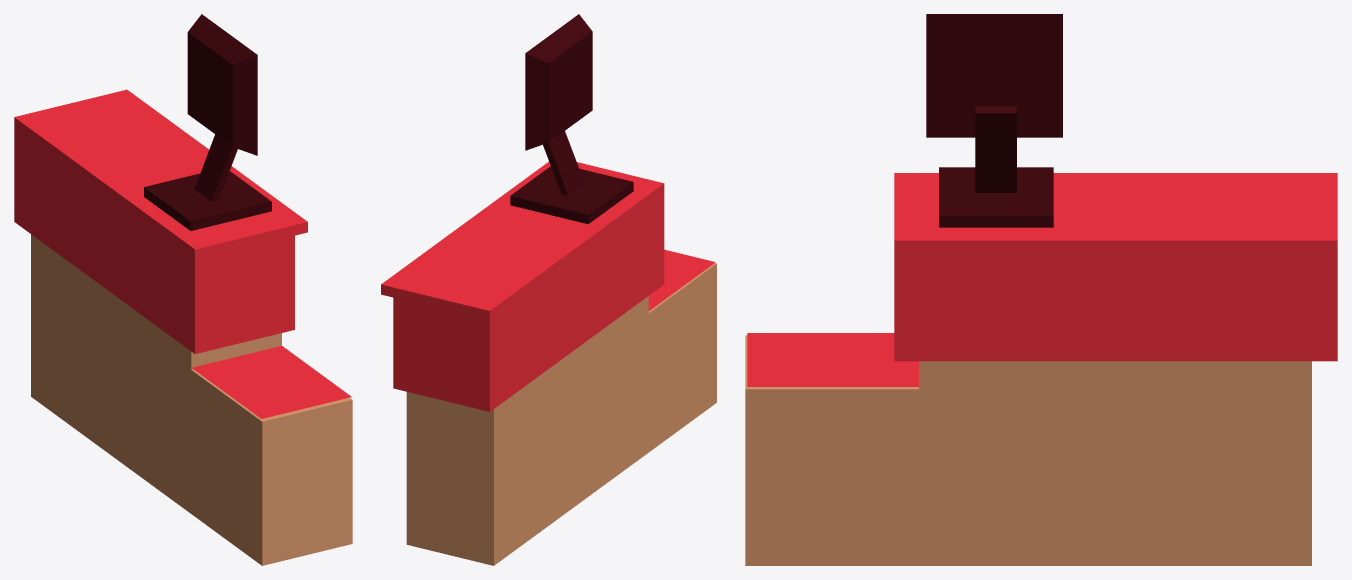
File: bar1.fbx
3 views of the same model, side by side, from view 1: azimuth 30°, elevation 25°; view 2: azimuth 150°, elevation 25°; view 3: azimuth 270°, elevation 25° (orthographic). The views are drawn at different scales.
Parts seen in each view (by area): view 1: bar, bar.002, bar.005, bar.001, bar.003, bar.004; view 2: bar, bar.002, bar.005, bar.003, bar.001, bar.004; view 3: bar, bar.002, bar.005, bar.001, bar.003, bar.004.
Part boxes in pixels (left/top/right/bottom): bar: left=31, top=234, right=352, bottom=565; bar.002: left=14, top=89, right=307, bottom=353; bar.005: left=187, top=14, right=257, bottom=155; bar.001: left=192, top=346, right=351, bottom=418; bar.003: left=144, top=171, right=271, bottom=230; bar.004: left=194, top=134, right=237, bottom=201; bar: left=406, top=263, right=716, bottom=565; bar.002: left=381, top=162, right=664, bottom=411; bar.005: left=525, top=14, right=592, bottom=150; bar.003: left=510, top=166, right=633, bottom=224; bar.001: left=648, top=249, right=715, bottom=310; bar.004: left=543, top=131, right=584, bottom=195; bar: left=745, top=335, right=1311, bottom=565; bar.002: left=894, top=173, right=1337, bottom=361; bar.005: left=926, top=14, right=1062, bottom=137; bar.001: left=747, top=333, right=918, bottom=386; bar.003: left=939, top=167, right=1053, bottom=227; bar.004: left=975, top=106, right=1016, bottom=192.
Bounding box in the file's own units: 234 × 871 × 867.
